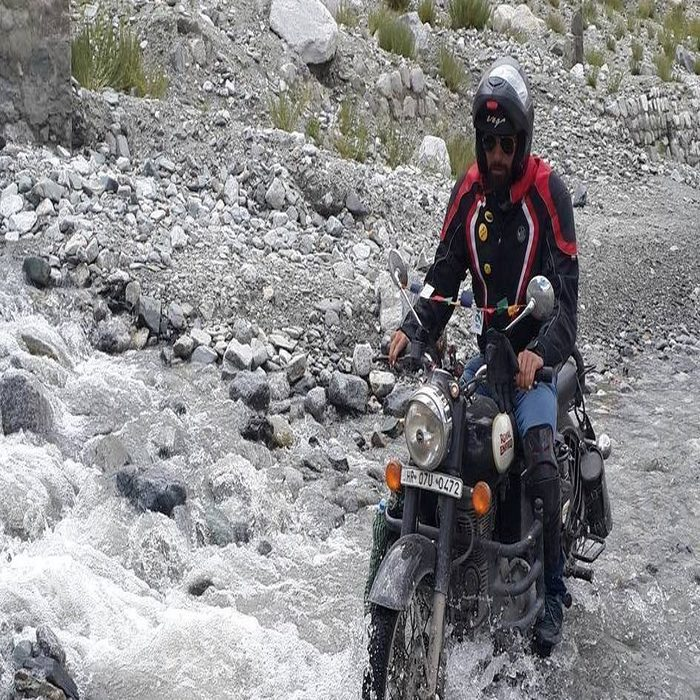h: (471, 54, 535, 185)
n: (398, 464, 464, 504)
